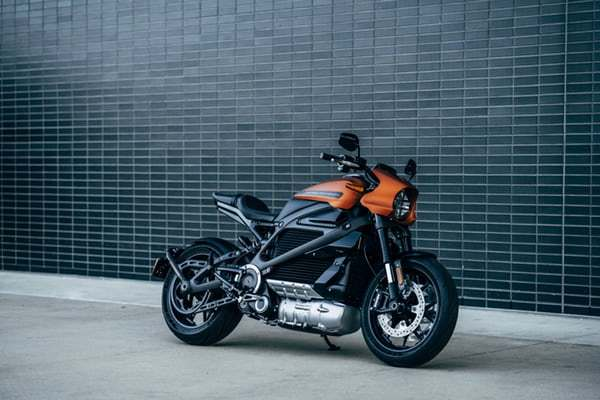1_label: (136, 109, 510, 388)
